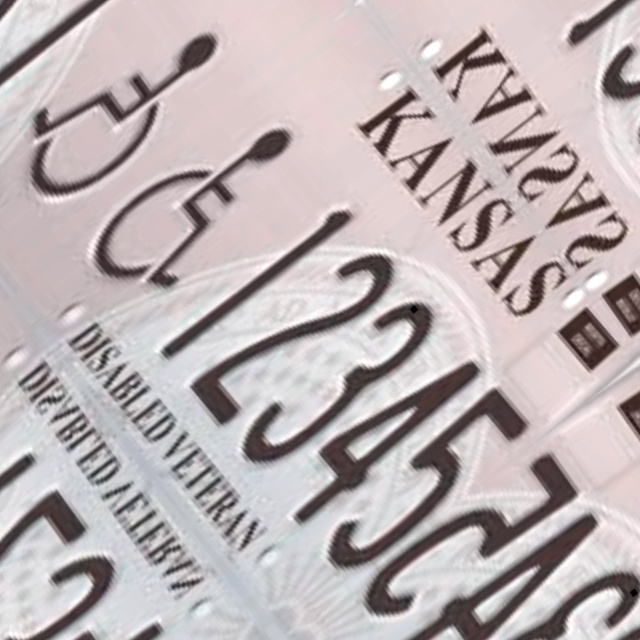ISA: (50, 72, 345, 340), (0, 0, 267, 240), (0, 320, 27, 587), (453, 0, 640, 27)
